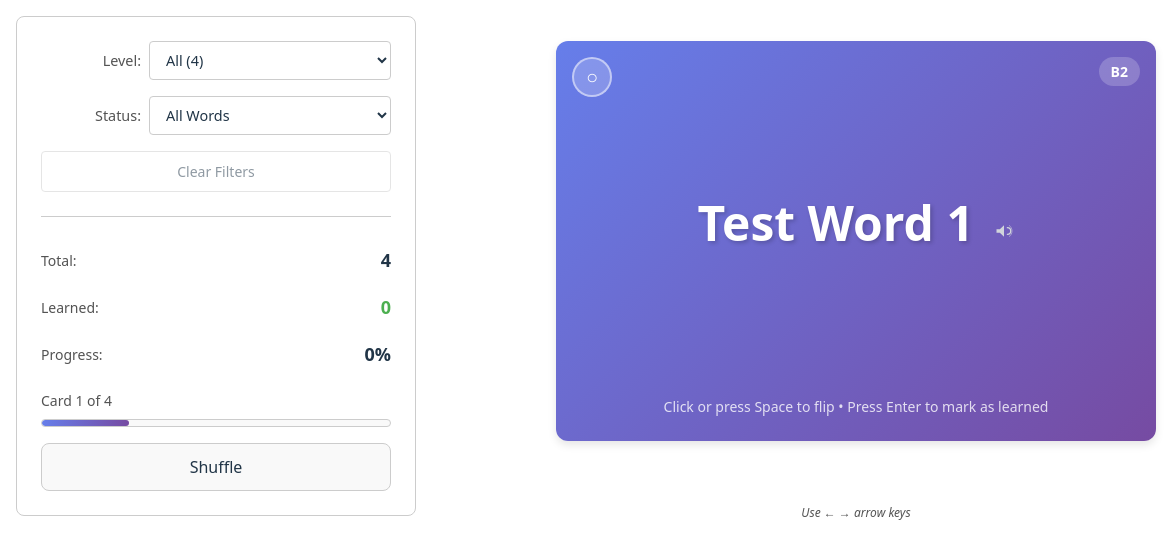
Test: VocabularyPractice Shuffling › switches to Reset Order button after shuffling
What coordinates should you click on to do the following:
click the button "Shuffle"
I would click on:
 (216, 467)
Its box is [41,443,391,491].
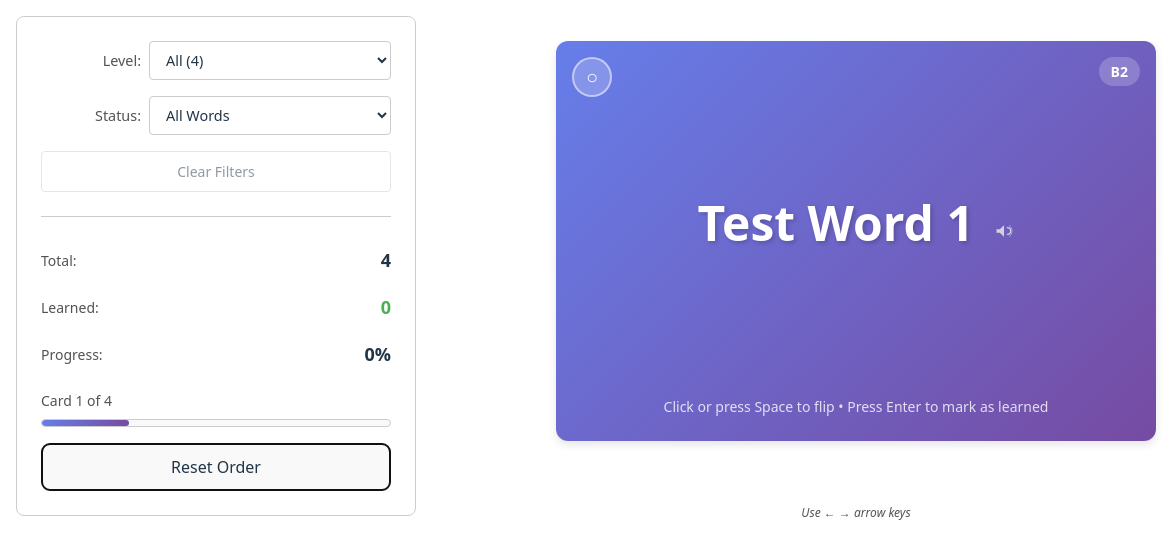
Expected: the button "Shuffle" is gone
Expected: the button "Reset Order" is shown, [41,443,391,491]
